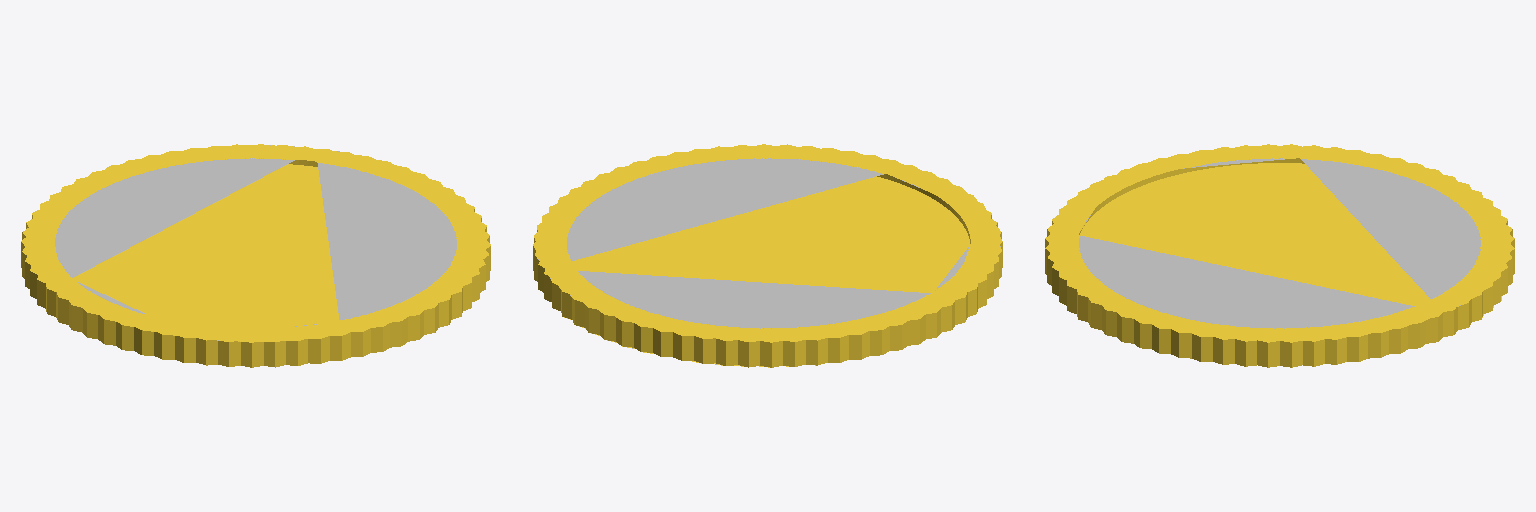
3 renders of one model, left to right at view 1: azimuth 30°, elevation 25°; view 2: azimuth 150°, elevation 25°; view 3: azimuth 270°, elevation 25°, orthographic.
Parts seen in each view (by area): view 1: Cylinder.002; view 2: Cylinder.002; view 3: Cylinder.002.
Part boxes in pixels (bbox=[...]): Cylinder.002: bbox=[21, 144, 490, 367]; Cylinder.002: bbox=[533, 144, 1002, 367]; Cylinder.002: bbox=[1045, 144, 1514, 367].
Bounding box in the file's own units: 2.04 × 0.12 × 2.04.
Materials: 1 (1 with a texture image).